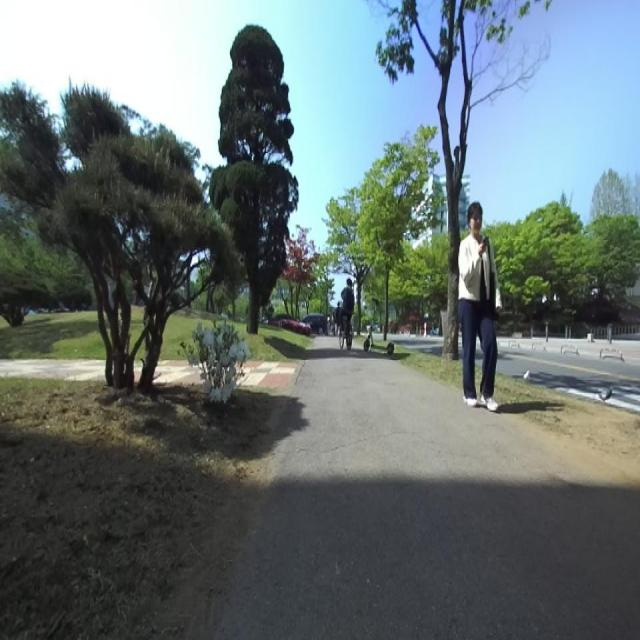sidewalk: (213, 338, 640, 640), (241, 360, 304, 396), (0, 360, 104, 380), (154, 360, 200, 384), (134, 361, 141, 381)
